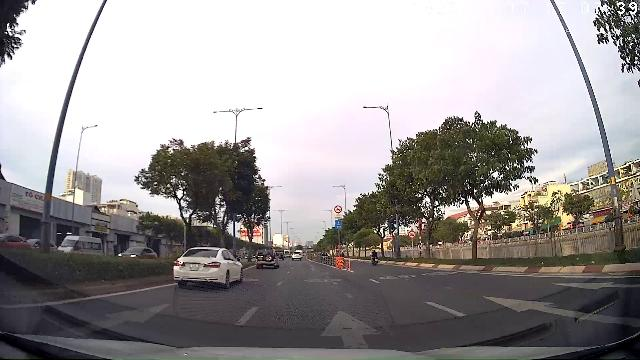103a-cam-oto: (408, 231, 416, 239)
